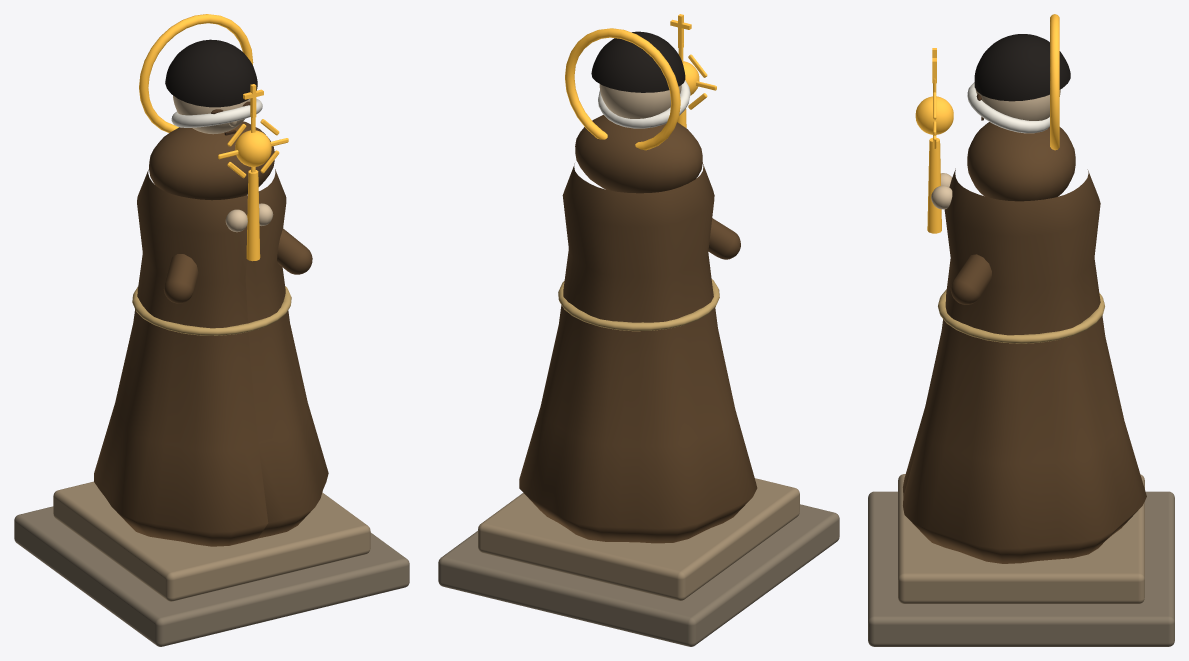
The model's file is statue-clara.glb.
3 renders of one model, left to right at view 1: azimuth 30°, elevation 25°; view 2: azimuth 150°, elevation 25°; view 3: azimuth 270°, elevation 25°, orthographic. The views are drawn at different scales.
Parts seen in each view (by area): view 1: Robe, PlinthLow, PlinthTop, Shoulders, Veil, Arm (×2), object 28, object 4, HeadG, Monstrance, Host, Head; view 2: Robe, PlinthLow, PlinthTop, Shoulders, Veil, object 28, Head, object 4, HeadG, Arm; view 3: Robe, PlinthLow, PlinthTop, Shoulders, Veil, object 4, Arm, object 28, HeadG, Head, Host, Monstrance.
Boxes of the visible parts, x1,y1,x2,y2 form: Robe: [94, 169, 328, 546]; PlinthLow: [14, 506, 409, 646]; PlinthTop: [53, 481, 370, 601]; Shoulders: [149, 121, 274, 200]; Veil: [165, 39, 257, 107]; Arm (×2): [163, 228, 312, 303]; object 28: [139, 14, 253, 132]; object 4: [132, 286, 291, 335]; HeadG: [171, 98, 262, 127]; Monstrance: [246, 170, 260, 261]; Host: [235, 130, 271, 166]; Head: [173, 95, 250, 134]; Robe: [519, 163, 757, 543]; PlinthLow: [438, 504, 839, 646]; PlinthTop: [478, 478, 799, 600]; Shoulders: [575, 115, 702, 193]; Veil: [591, 31, 685, 92]; object 28: [565, 28, 680, 150]; Head: [599, 84, 681, 118]; object 4: [558, 279, 719, 331]; HeadG: [598, 80, 690, 128]; Arm: [708, 218, 740, 259]; Robe: [903, 168, 1146, 563]; PlinthLow: [868, 491, 1174, 646]; PlinthTop: [898, 474, 1144, 603]; Shoulders: [967, 122, 1075, 201]; Veil: [974, 34, 1070, 101]; object 4: [938, 289, 1104, 343]; Arm: [950, 254, 991, 304]; object 28: [1050, 14, 1059, 150]; HeadG: [967, 82, 1049, 133]; Head: [975, 89, 1060, 120]; Host: [915, 96, 953, 134]; Monstrance: [927, 138, 941, 233].
Bounding box in the file's own units: 0.92 × 1.86 × 0.92.
